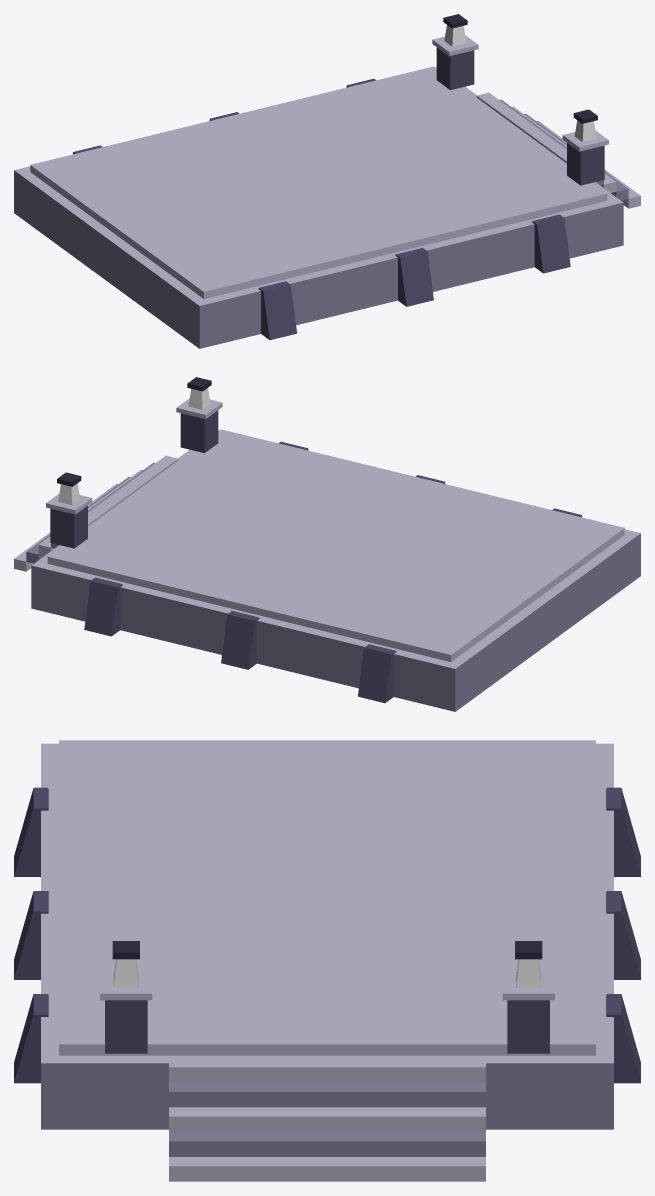
File: Fair_Podium.fbx
The picture shows the model from 3 angles, top to bottom: view 1: azimuth 30°, elevation 25°; view 2: azimuth 150°, elevation 25°; view 3: azimuth 270°, elevation 25°; orthographic projection. The views are drawn at different scales.
Parts seen in each view (by area): view 1: Fair_Podium; view 2: Fair_Podium; view 3: Fair_Podium.
Part boxes in pixels (x1=…): Fair_Podium: x1=14, y1=14, x2=640, y2=348; Fair_Podium: x1=14, y1=377, x2=640, y2=711; Fair_Podium: x1=14, y1=740, x2=640, y2=1181.
Size of what is drawn, in the model's own units: 14.12 by 3.31 by 10.28.
2 materials, 1 textured.
